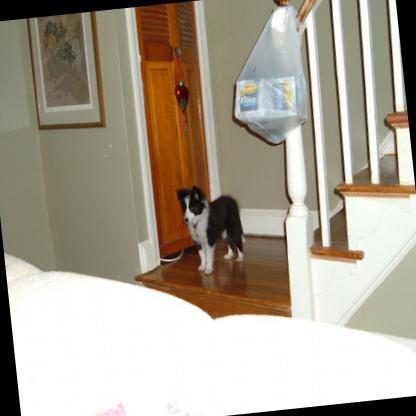Shetland_sheepdog: (174, 178, 249, 274)
